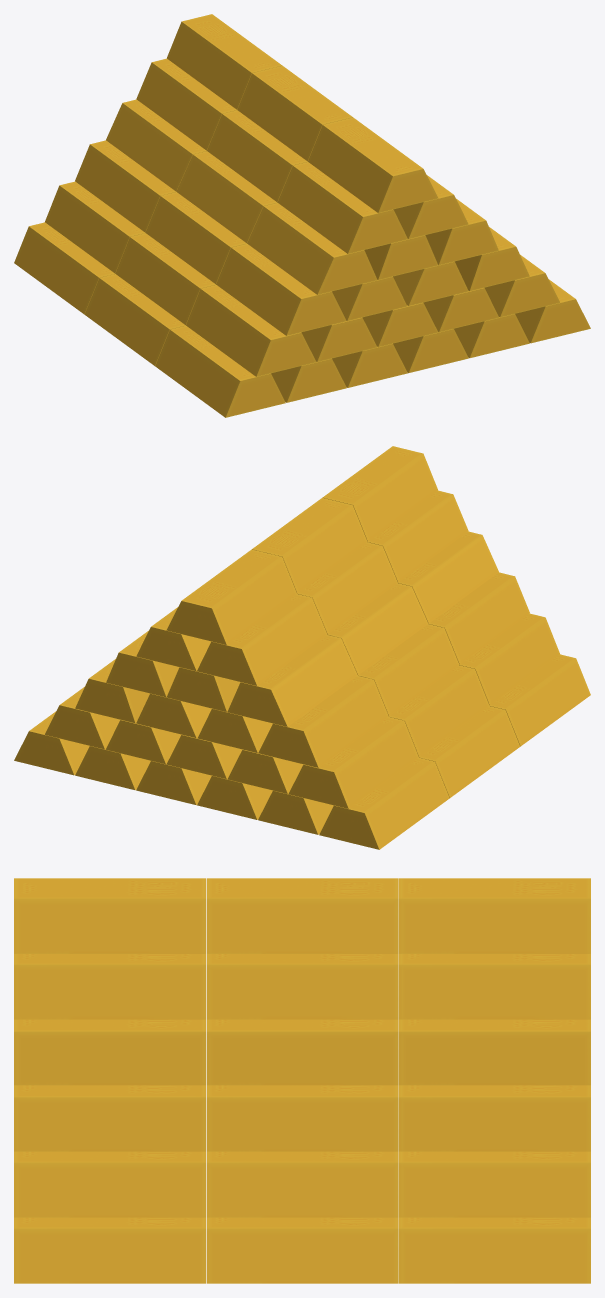
The model's file is sb_obj_outdoor019_Gold01.fbx.
3 views of the same model, one above another, from view 1: azimuth 30°, elevation 25°; view 2: azimuth 150°, elevation 25°; view 3: azimuth 270°, elevation 25° (orthographic). The views are drawn at different scales.
Visible parts, largest first — view 1: sb_obj_outdoor019_Gold01; view 2: sb_obj_outdoor019_Gold01; view 3: sb_obj_outdoor019_Gold01.
Boxes of the visible parts, bbox=[...] form: sb_obj_outdoor019_Gold01: bbox=[14, 14, 590, 417]; sb_obj_outdoor019_Gold01: bbox=[14, 446, 590, 849]; sb_obj_outdoor019_Gold01: bbox=[14, 878, 590, 1283].
Size of the model in its own units: 0.9581 by 0.5027 by 0.9604.
